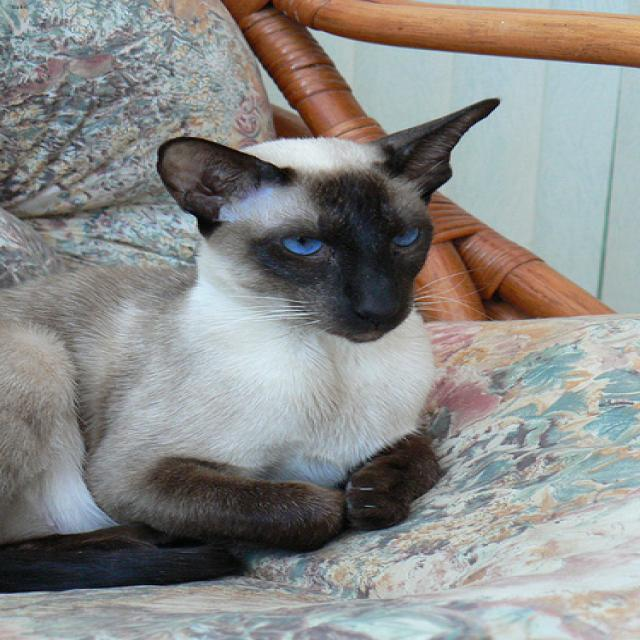Siamese: (156, 97, 499, 342)
